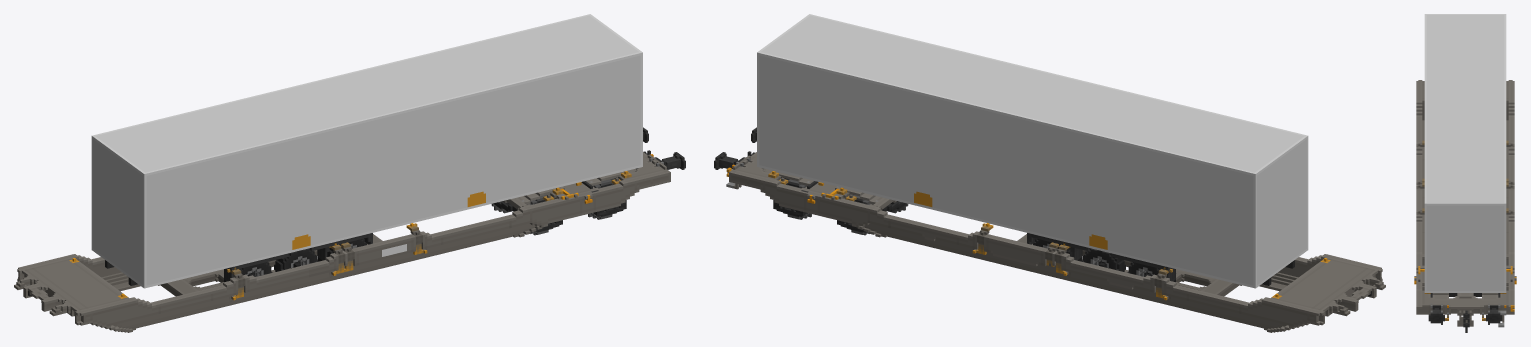
The model's file is hupac_t3000e_b.obj.
3 views of the same model, side by side, from view 1: azimuth 30°, elevation 25°; view 2: azimuth 150°, elevation 25°; view 3: azimuth 270°, elevation 25° (orthographic). The views are drawn at different scales.
Visible parts, largest first — view 1: CARGO_FILL_01, FRAME_2, FRAME_1, FRAME_3, BOGEY_REAR; view 2: CARGO_FILL_01, FRAME_1, FRAME_2, FRAME_3, BOGEY_REAR; view 3: CARGO_FILL_01, FRAME_1, FRAME_2, Coupler, BOGEY_REAR.
Boxes of the visible parts, <box> form: CARGO_FILL_01: <box>91,14,642,288</box>; FRAME_2: <box>17,254,308,332</box>; FRAME_1: <box>272,127,685,288</box>; FRAME_3: <box>14,270,79,316</box>; BOGEY_REAR: <box>493,177,626,232</box>; CARGO_FILL_01: <box>757,14,1308,288</box>; FRAME_1: <box>714,127,1127,288</box>; FRAME_2: <box>1091,254,1382,332</box>; FRAME_3: <box>1320,270,1385,316</box>; BOGEY_REAR: <box>773,177,906,232</box>; CARGO_FILL_01: <box>1424,14,1506,292</box>; FRAME_1: <box>1414,175,1516,327</box>; FRAME_2: <box>1416,80,1514,178</box>; Coupler: <box>1463,310,1469,332</box>; BOGEY_REAR: <box>1429,293,1500,314</box>.
Size of the model in its own units: 17.25 by 4.38 by 3.12.
1 material, 1 textured.
